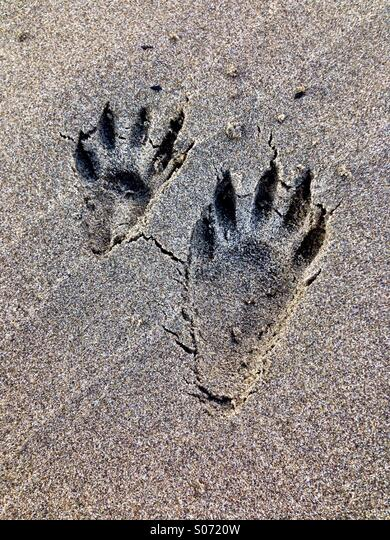raccoon: (192, 158, 323, 406), (35, 87, 197, 243)
